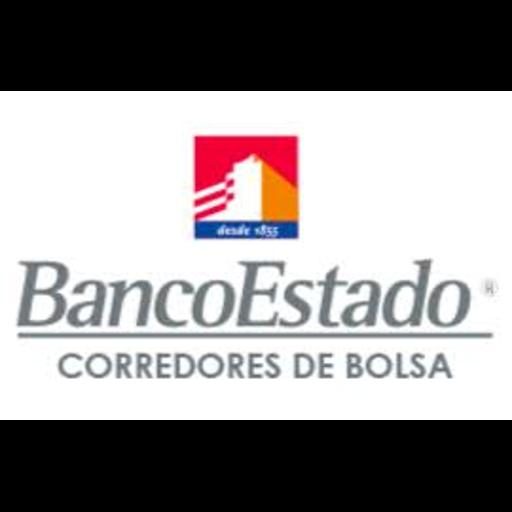Banco del Estado de Chile: (0, 91, 512, 420)
